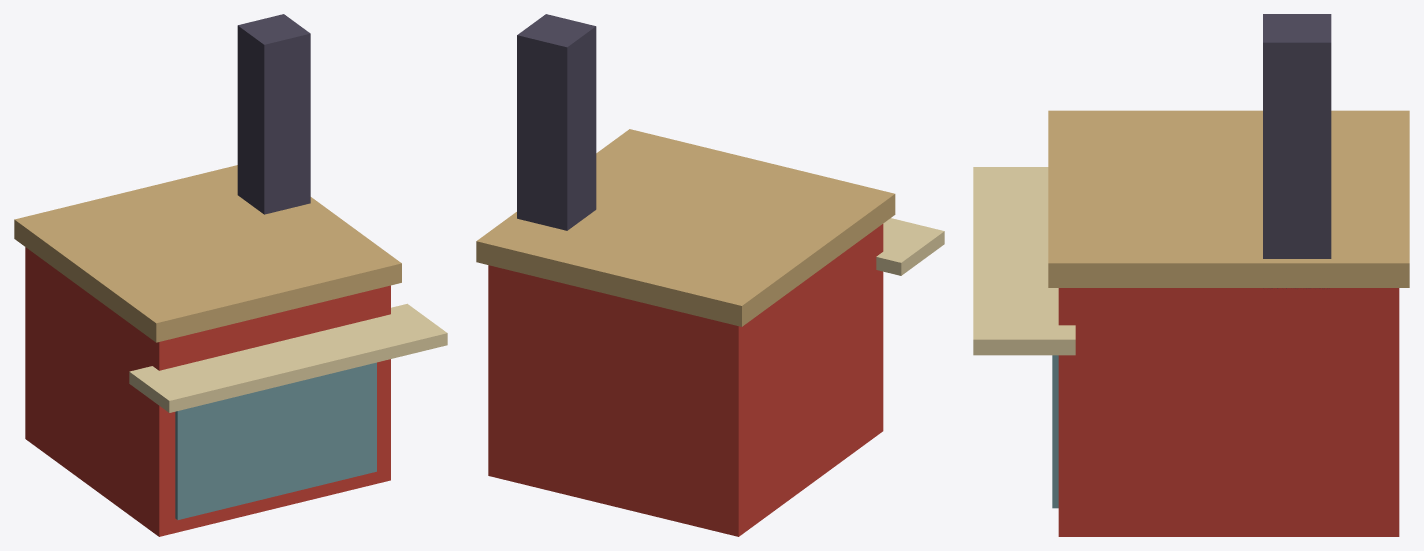
3 views of the same model, side by side, from view 1: azimuth 30°, elevation 25°; view 2: azimuth 150°, elevation 25°; view 3: azimuth 270°, elevation 25° (orthographic). The views are drawn at different scales.
Visible parts, largest first — view 1: RC-014 Service garage batched; view 2: RC-014 Service garage batched; view 3: RC-014 Service garage batched.
Boxes of the visible parts, x1,y1,x2,y2 form: RC-014 Service garage batched: [14, 14, 447, 536]; RC-014 Service garage batched: [476, 14, 944, 536]; RC-014 Service garage batched: [973, 14, 1409, 536].
Size of the model in its own units: 6 by 8 by 6.4.
